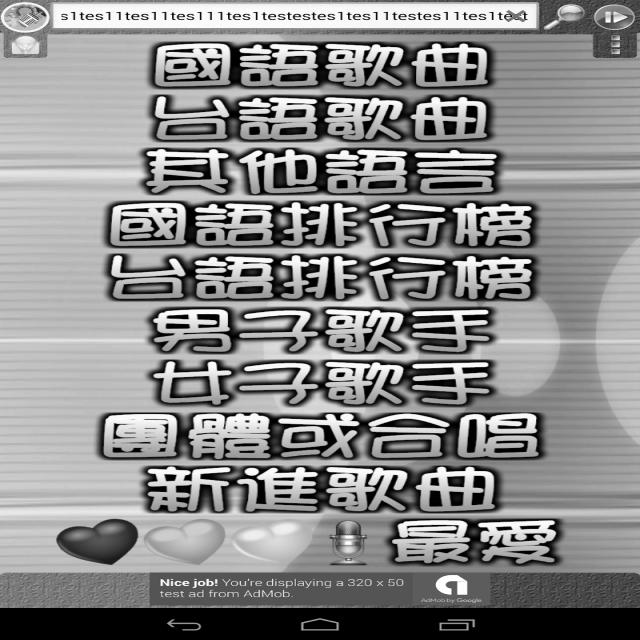EditText: (51, 4, 541, 36)
ImageButton: (3, 2, 42, 30), (594, 2, 634, 29), (546, 4, 584, 31), (6, 34, 44, 56), (592, 34, 632, 54)
ImageView: (49, 516, 378, 568), (417, 575, 483, 602)
TextView: (145, 41, 502, 196), (97, 413, 555, 513), (100, 200, 537, 302), (147, 310, 498, 402), (390, 517, 568, 564), (156, 576, 406, 590)
